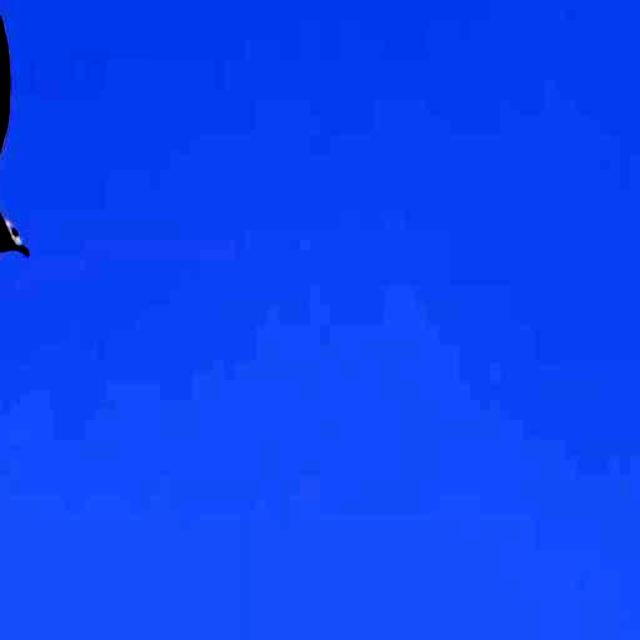airplane: (0, 9, 28, 439)
